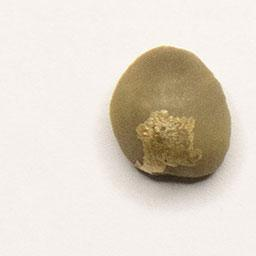premium: (105, 42, 235, 186)
